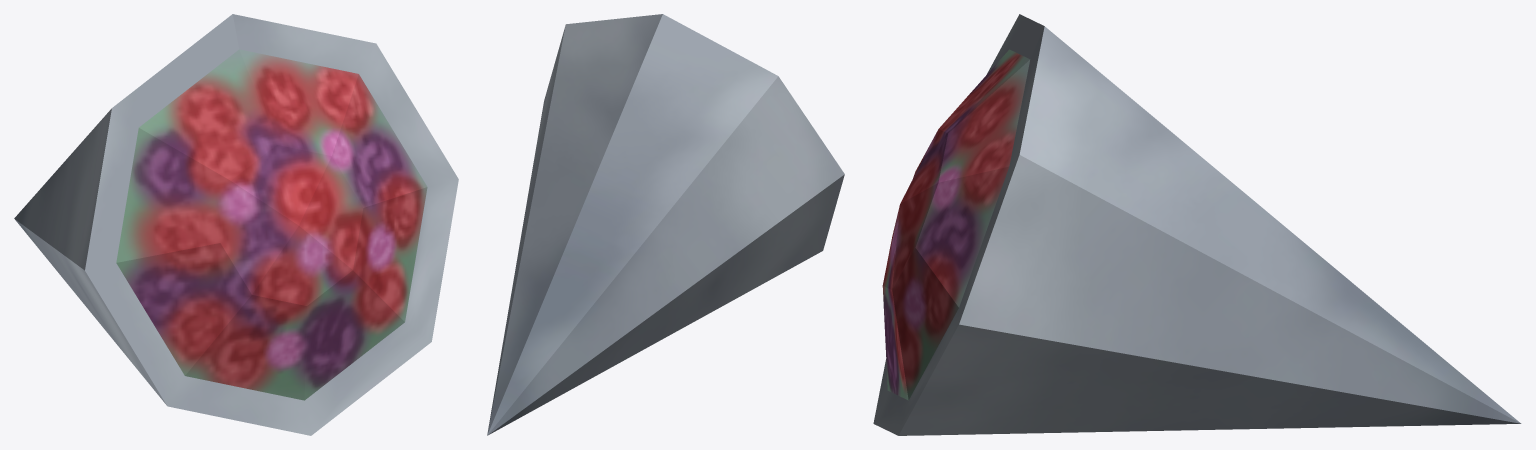
The model's file is buque.fbx.
The picture shows the model from 3 angles, left to right: view 1: azimuth 30°, elevation 25°; view 2: azimuth 150°, elevation 25°; view 3: azimuth 270°, elevation 25°; orthographic projection. The views are drawn at different scales.
Visible parts, largest first — view 1: Cone; view 2: Cone; view 3: Cone.
Boxes of the visible parts, left/top/right/bottom form: Cone: left=14, top=14, right=458, bottom=435; Cone: left=487, top=14, right=844, bottom=435; Cone: left=873, top=14, right=1521, bottom=435.
Bounding box in the file's own units: 235 × 219 × 323.
